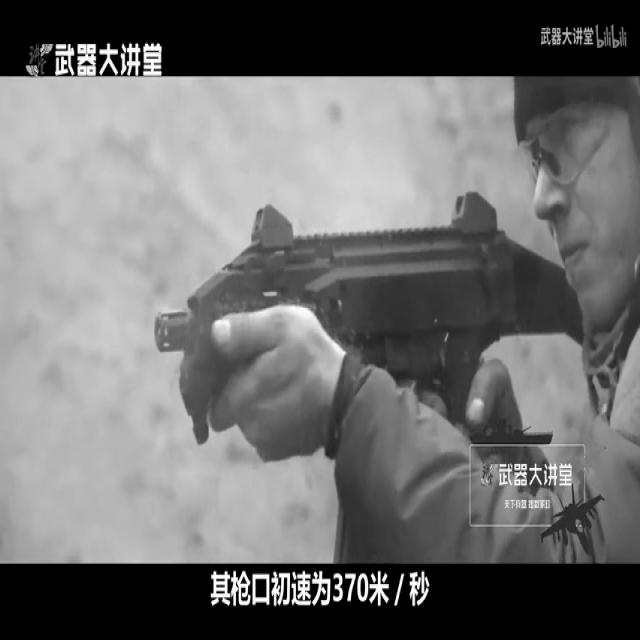Short-Gun: (99, 108, 640, 640)
